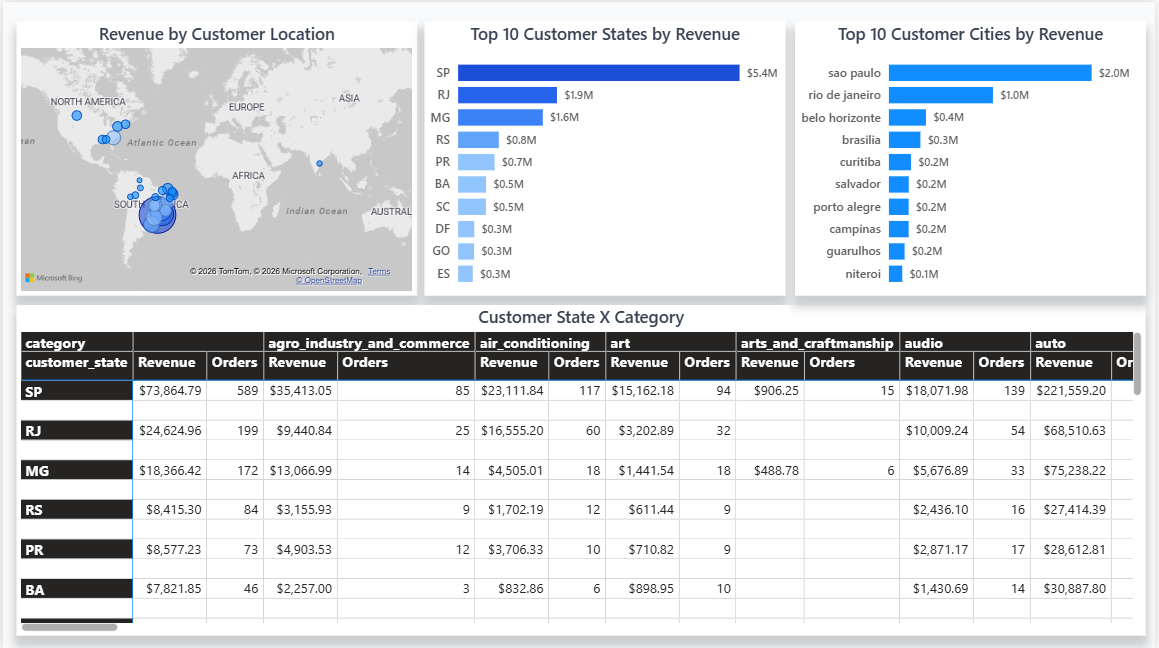

The dashboard page shown, as its layout file describes it:
{"tool":"powerbi","page":{"name":"Customer Geo","canvas":[1280,720],"ordinal":3},"visuals":[{"type":"map","title":"Revenue by Customer Location","fields":{"Category":["public bi_fact_sales.customer_state"],"Size":["public bi_fact_sales.Revenue"]},"box":[14.6,21,445.3,304.4],"z":0},{"type":"barChart","title":"Top 10 Customer States by Revenue","fields":{"Y":["public bi_fact_sales.Revenue"],"Category":["public bi_fact_sales.customer_state"]},"box":[468,21,401.6,304.4],"z":1000},{"type":"pivotTable","title":"Customer State X Category","fields":{"Values":["public bi_fact_sales.Revenue","public bi_fact_sales.Orders"],"Columns":["public bi_fact_sales.category"],"Rows":["public bi_fact_sales.customer_state"]},"box":[14.6,336.8,1254.9,367.6],"z":2000},{"type":"barChart","title":"Top 10 Customer Cities by Revenue","fields":{"Y":["public bi_fact_sales.Revenue"],"Category":["public bi_fact_sales.customer_city"]},"box":[879.2,21,390.2,304.4],"z":3000}]}

Visuals, with their boxes in screenshot pixels (x1, y1, x2, y2), scaled from the page's 1280x720 canvas onto the 1159x648 screenshot:
"Revenue by Customer Location" map: l=13, t=19, r=416, b=293
"Top 10 Customer States by Revenue" barChart: l=424, t=19, r=787, b=293
"Customer State X Category" pivotTable: l=13, t=303, r=1149, b=634
"Top 10 Customer Cities by Revenue" barChart: l=796, t=19, r=1149, b=293
